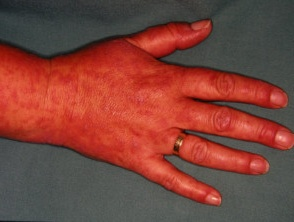SJS-TEN: (0, 9, 201, 185)
